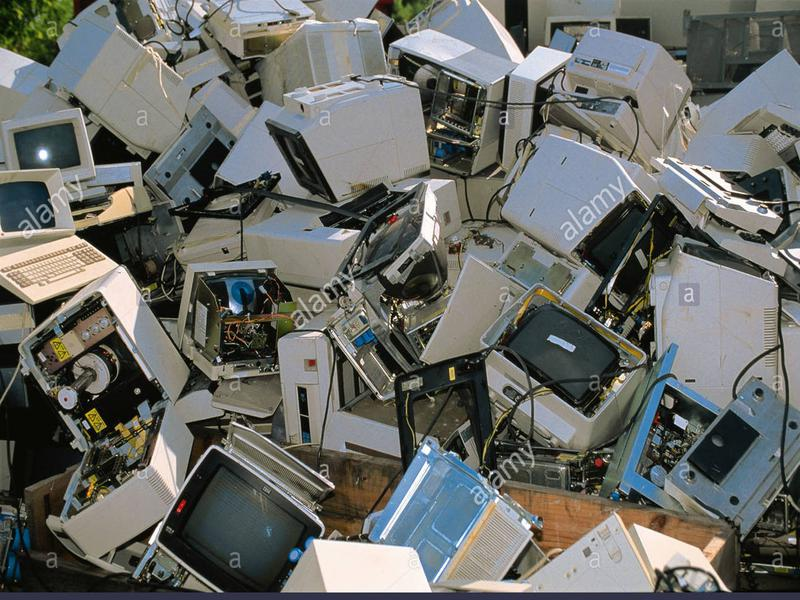keyboard: (2, 236, 122, 306)
tv_pc: (155, 443, 329, 596), (4, 102, 103, 183)
